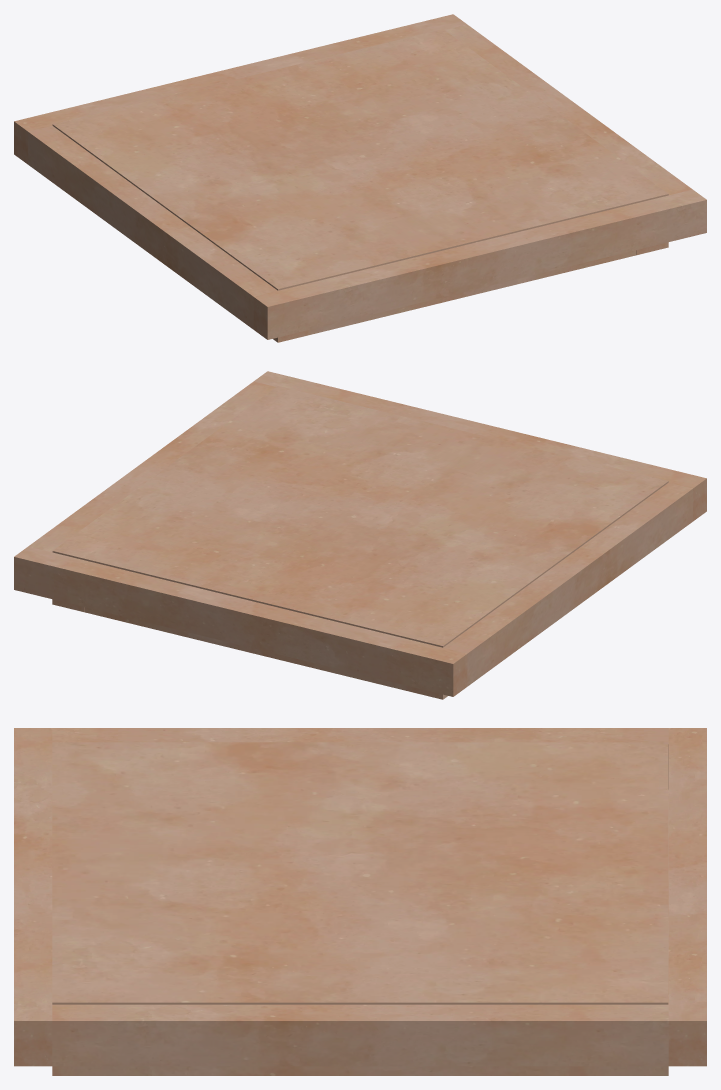
3 views of the same model, one above another, from view 1: azimuth 30°, elevation 25°; view 2: azimuth 150°, elevation 25°; view 3: azimuth 270°, elevation 25° (orthographic). The views are drawn at different scales.
Parts seen in each view (by area): view 1: SM_BB_T4_Floor_Large_03_LOD0; view 2: SM_BB_T4_Floor_Large_03_LOD0; view 3: SM_BB_T4_Floor_Large_03_LOD0.
Part boxes in pixels (<box>): SM_BB_T4_Floor_Large_03_LOD0: <box>14,14,706,342</box>; SM_BB_T4_Floor_Large_03_LOD0: <box>14,371,706,699</box>; SM_BB_T4_Floor_Large_03_LOD0: <box>14,728,706,1075</box>.
Bounding box in the file's own units: 3.38 × 0.3933 × 3.38.
1 material, 1 textured.
